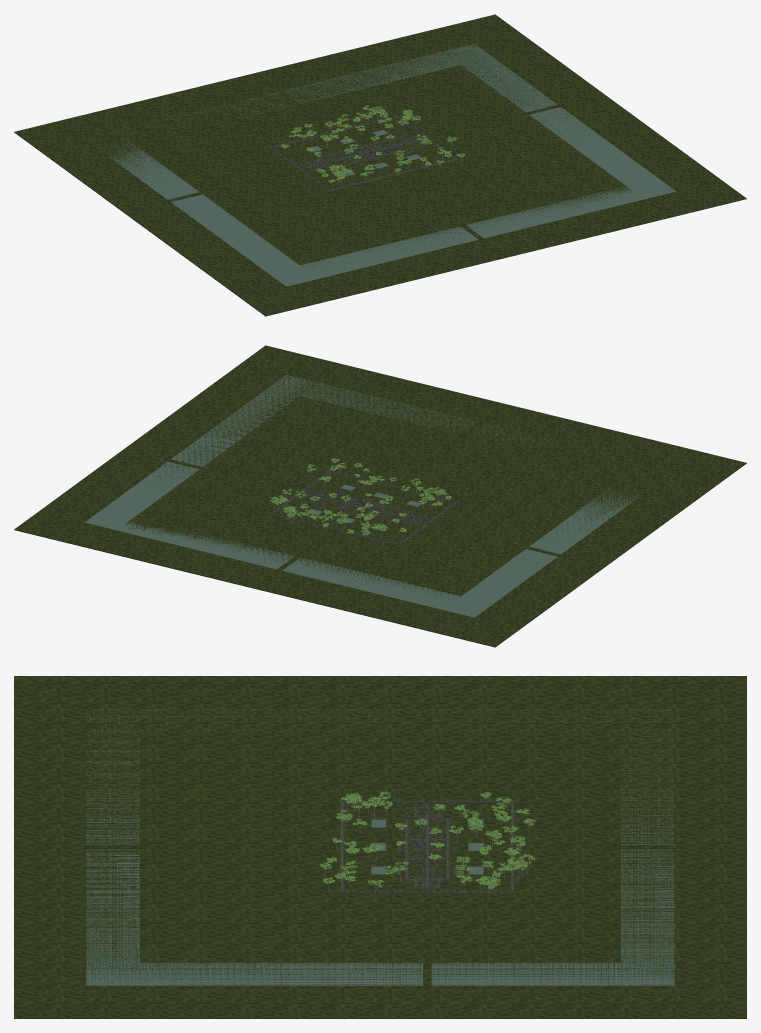
Rendered from banteay-chhmar-normal.glb.
3 views of the same model, one above another, from view 1: azimuth 30°, elevation 25°; view 2: azimuth 150°, elevation 25°; view 3: azimuth 270°, elevation 25° (orthographic). The views are drawn at different scales.
Parts seen in each view (by area): view 1: Batched Viewer Dry forest soil, Batched Viewer Moat • muted seasonal water, Batched Viewer Weathered grey sandstone • procedural, no pho, Batched Viewer Foliage 3, Batched Viewer Foliage 0, Batched Viewer Foliage 2, Batched Viewer Foliage 1, Batched Viewer Tree bark; view 2: Batched Viewer Dry forest soil, Batched Viewer Moat • muted seasonal water, Batched Viewer Weathered grey sandstone • procedural, no pho, Batched Viewer Foliage 3, Batched Viewer Foliage 0, Batched Viewer Foliage 2, Batched Viewer Foliage 1, Batched Viewer Tree bark; view 3: Batched Viewer Dry forest soil, Batched Viewer Moat • muted seasonal water, Batched Viewer Weathered grey sandstone • procedural, no pho, Batched Viewer Foliage 2, Batched Viewer Foliage 3, Batched Viewer Foliage 0, Batched Viewer Foliage 1, Batched Viewer Tree bark.
Boxes of the visible parts, box(x1,y1,x2,y2) form: Batched Viewer Dry forest soil: box(14, 14, 746, 316); Batched Viewer Moat • muted seasonal water: box(110, 44, 676, 286); Batched Viewer Weathered grey sandstone • procedural, no pho: box(271, 115, 457, 190); Batched Viewer Foliage 3: box(281, 106, 464, 182); Batched Viewer Foliage 0: box(281, 105, 464, 182); Batched Viewer Foliage 2: box(282, 105, 464, 182); Batched Viewer Foliage 1: box(281, 106, 465, 182); Batched Viewer Tree bark: box(284, 110, 461, 186); Batched Viewer Dry forest soil: box(14, 345, 746, 647); Batched Viewer Moat • muted seasonal water: box(84, 375, 641, 617); Batched Viewer Weathered grey sandstone • procedural, no pho: box(271, 470, 457, 545); Batched Viewer Foliage 3: box(271, 459, 451, 534); Batched Viewer Foliage 0: box(272, 458, 451, 534); Batched Viewer Foliage 2: box(271, 459, 451, 534); Batched Viewer Foliage 1: box(270, 458, 452, 534); Batched Viewer Tree bark: box(274, 463, 448, 539); Batched Viewer Dry forest soil: box(14, 676, 746, 1018); Batched Viewer Moat • muted seasonal water: box(86, 708, 674, 985); Batched Viewer Weathered grey sandstone • procedural, no pho: box(339, 798, 514, 892); Batched Viewer Foliage 2: box(319, 791, 534, 888); Batched Viewer Foliage 3: box(320, 792, 535, 889); Batched Viewer Foliage 0: box(321, 792, 534, 888); Batched Viewer Foliage 1: box(320, 791, 534, 887); Batched Viewer Tree bark: box(324, 795, 531, 897).
Bounding box in the file's own units: 114 × 2.95 × 103.
Materials: 10 (3 with a texture image).
